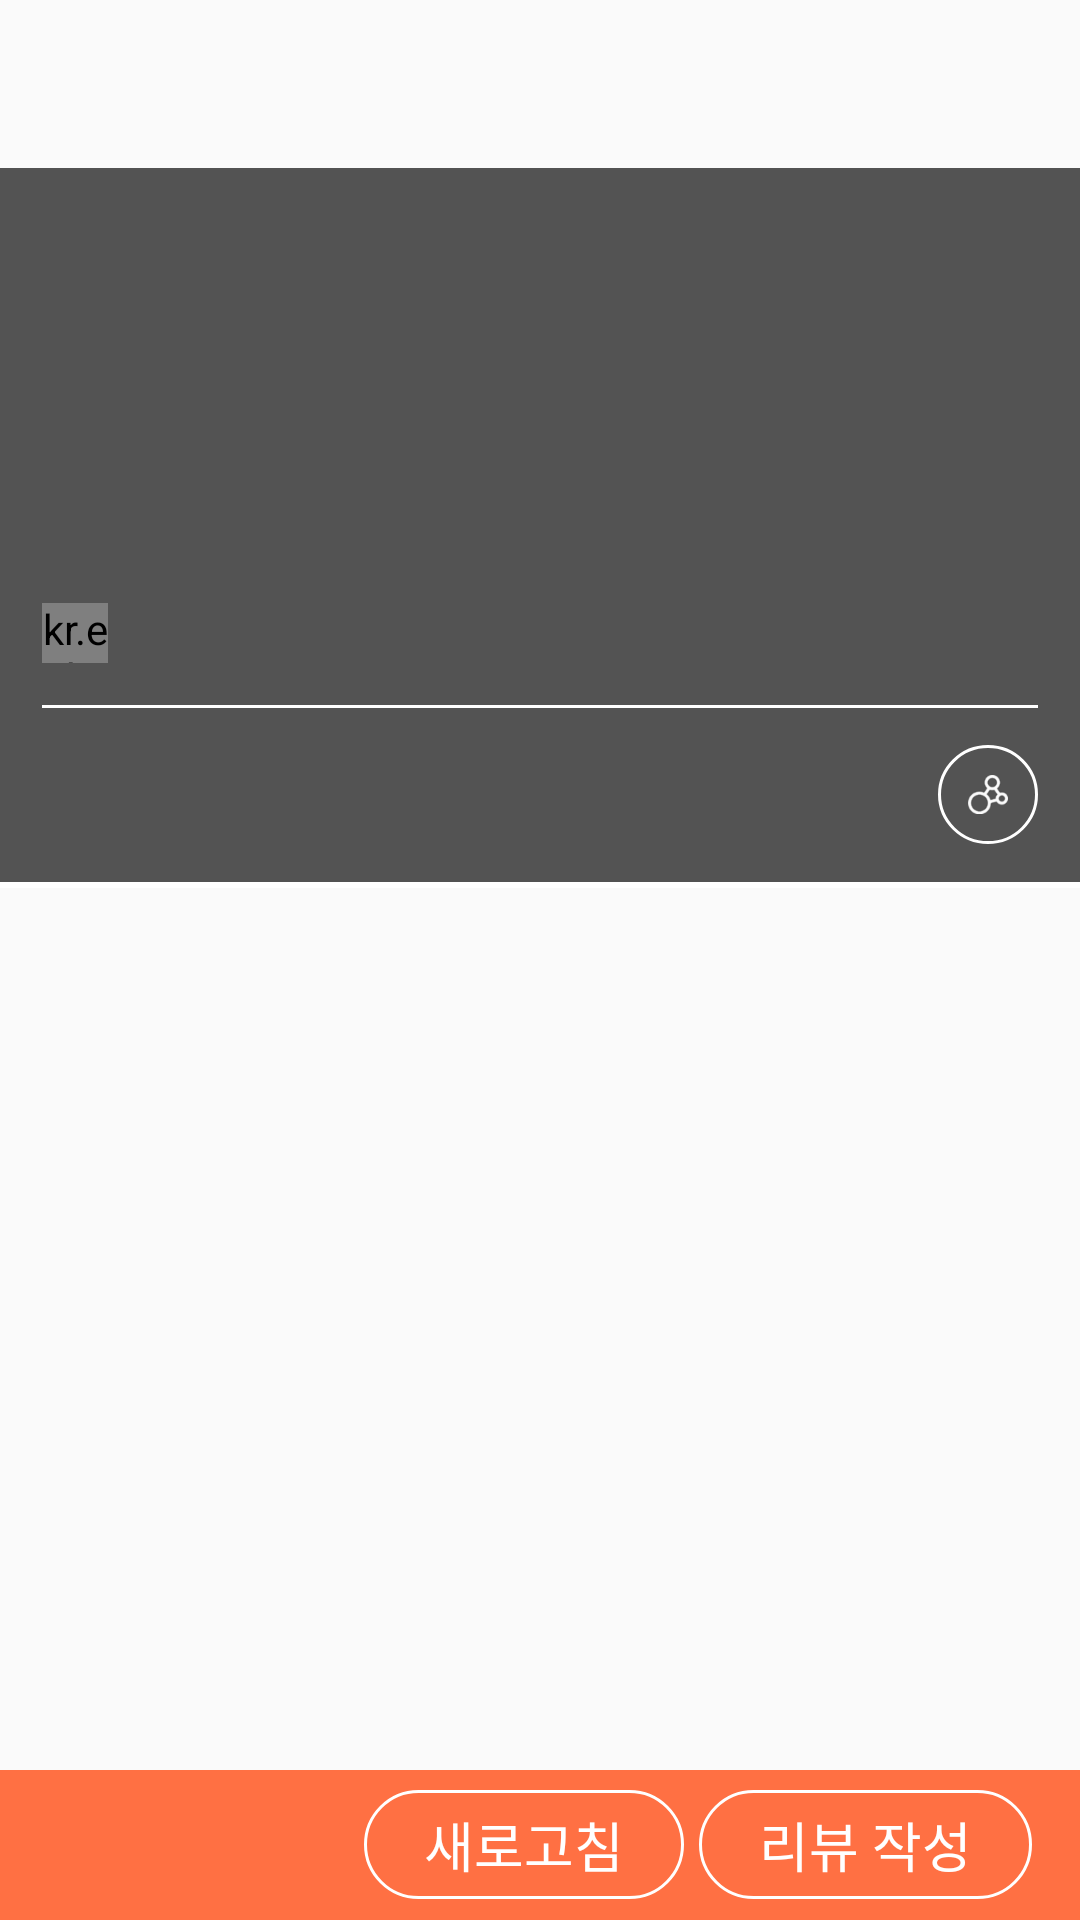

Locate icon controls on the screen. Image size 1080x1920, boxes as (x1, y1, x2, y2).
raidlist share: (938, 745, 1038, 844)
